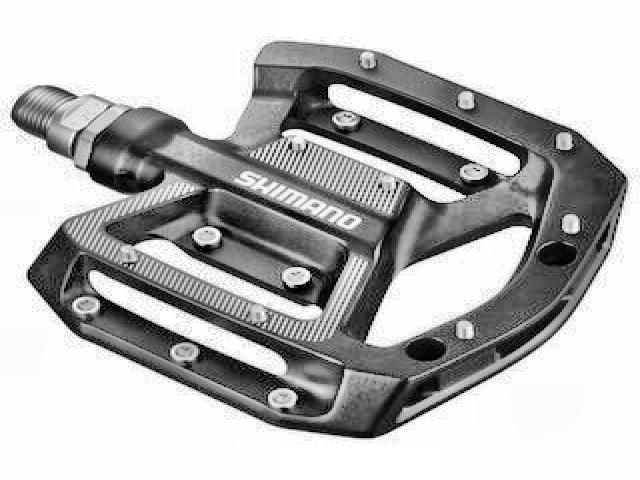pedal: (13, 39, 633, 435)
